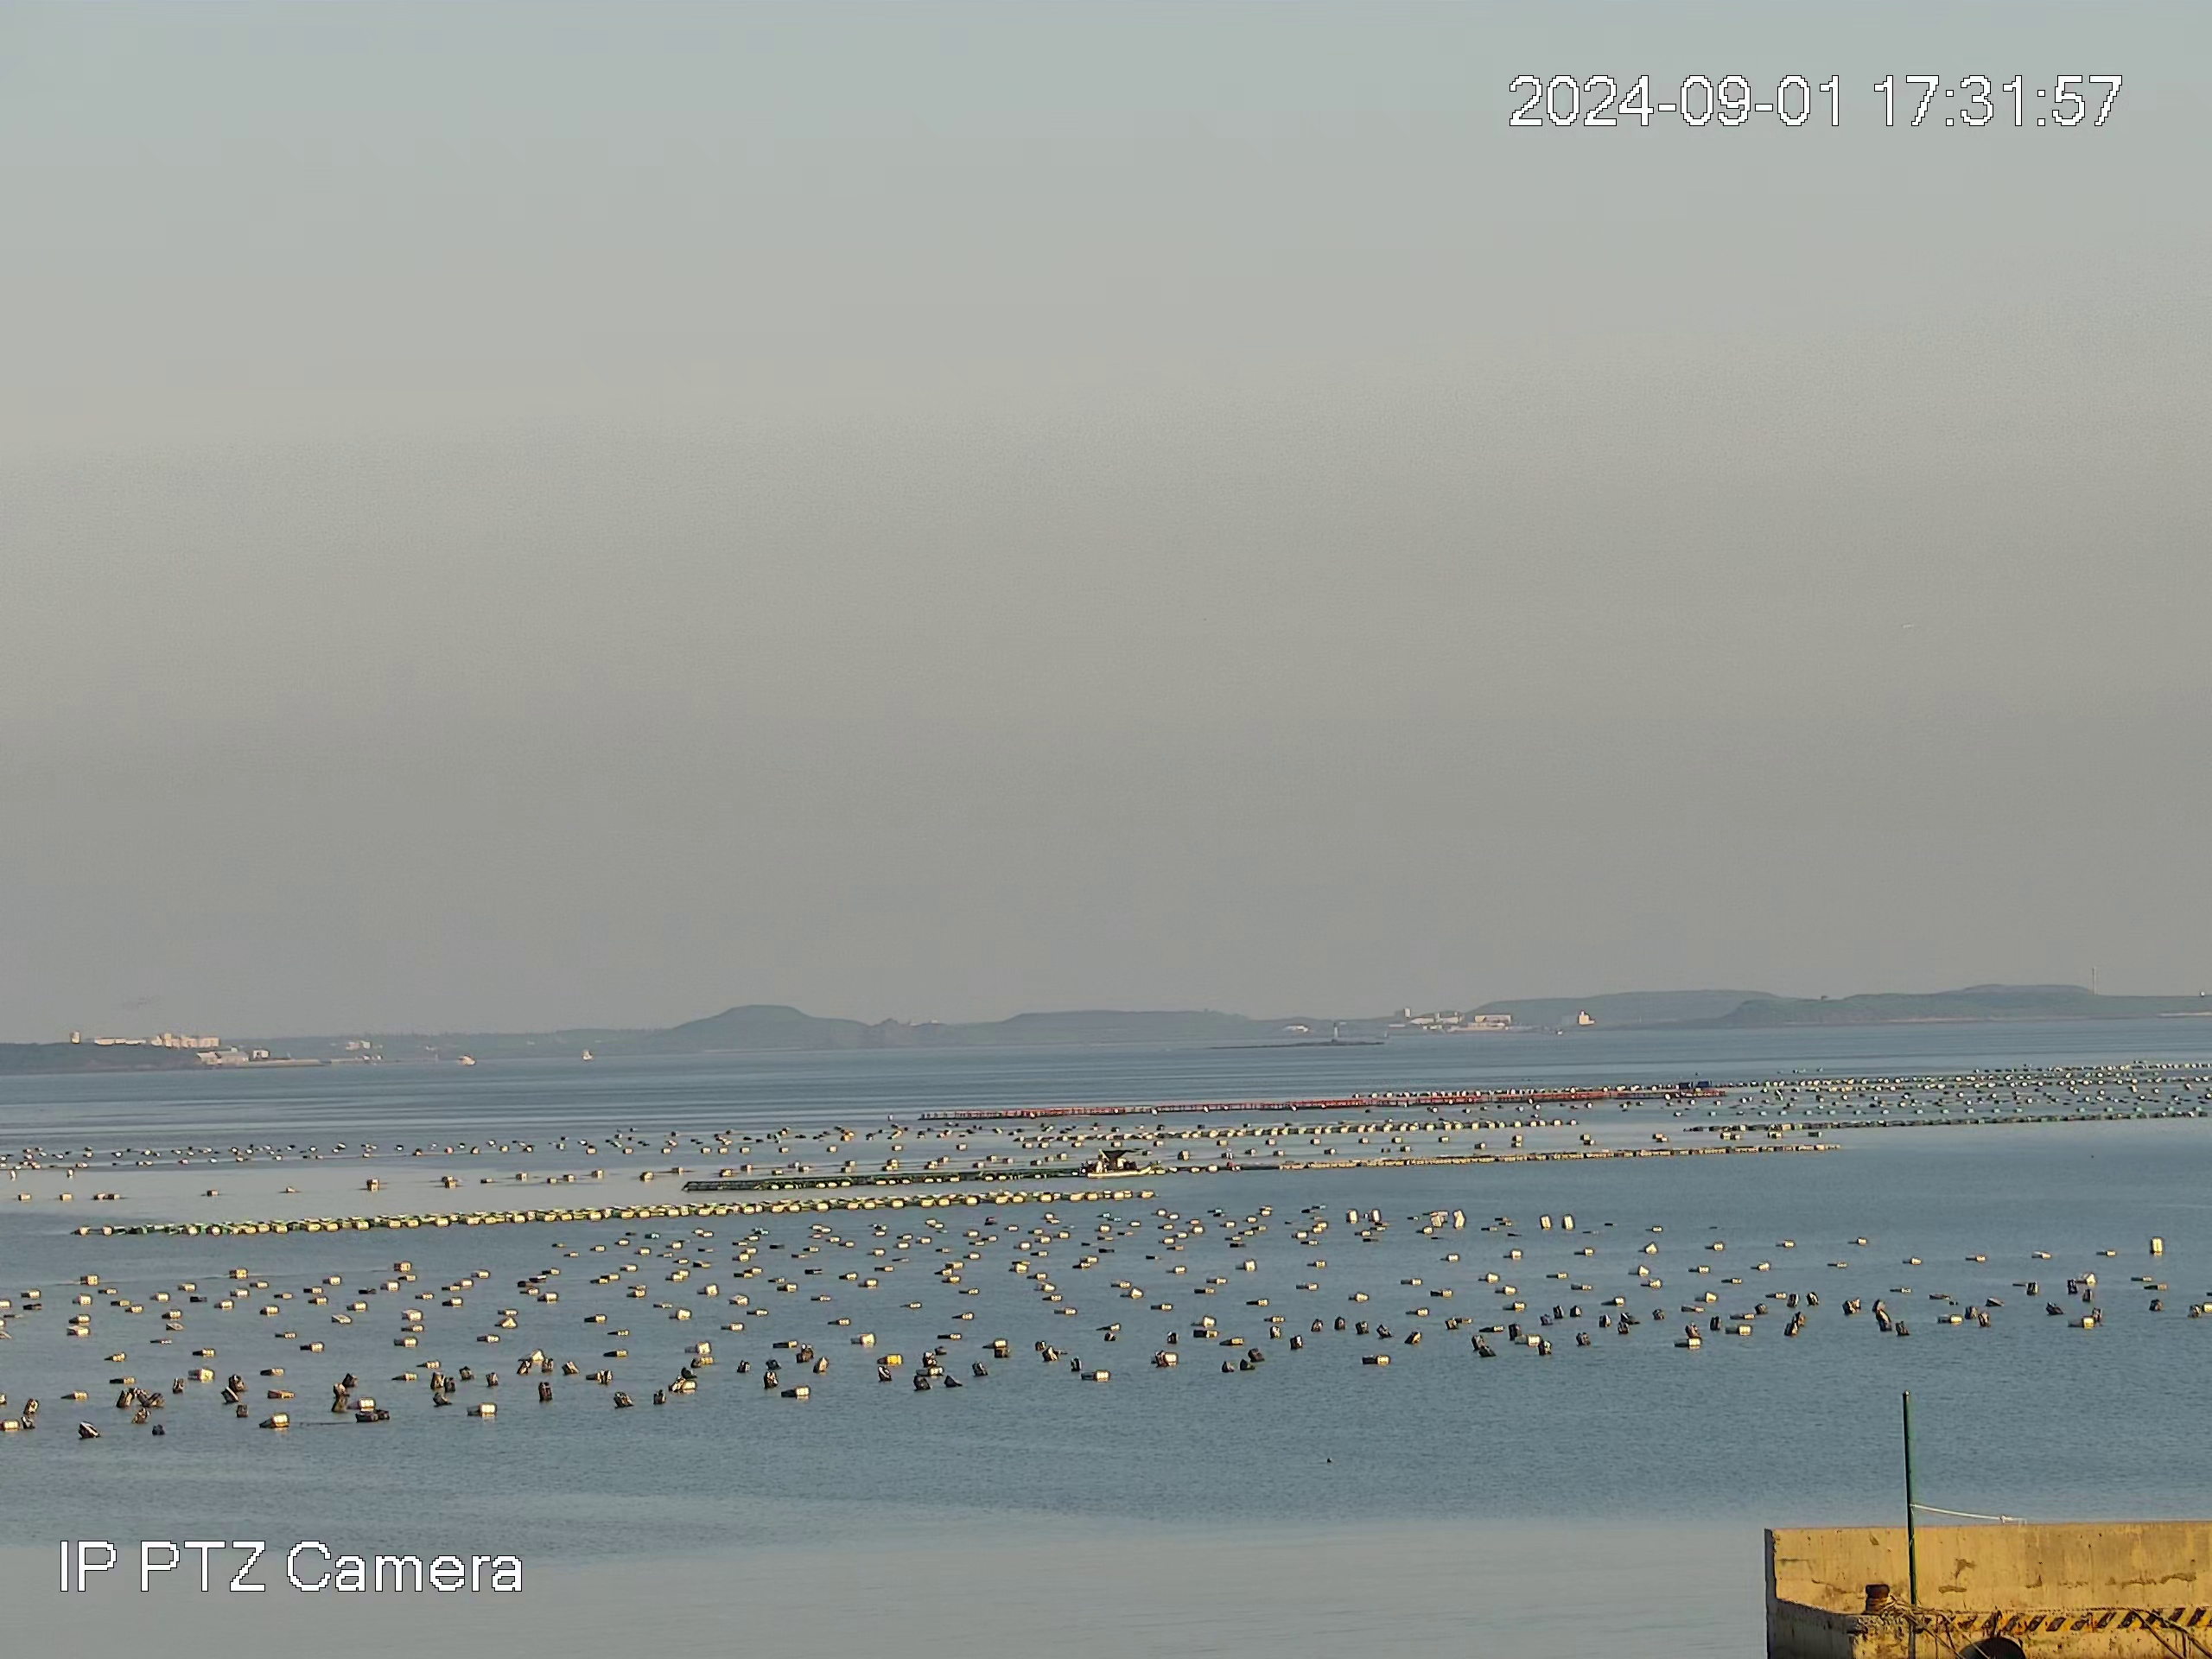boat: (1087, 1145, 1151, 1180)
